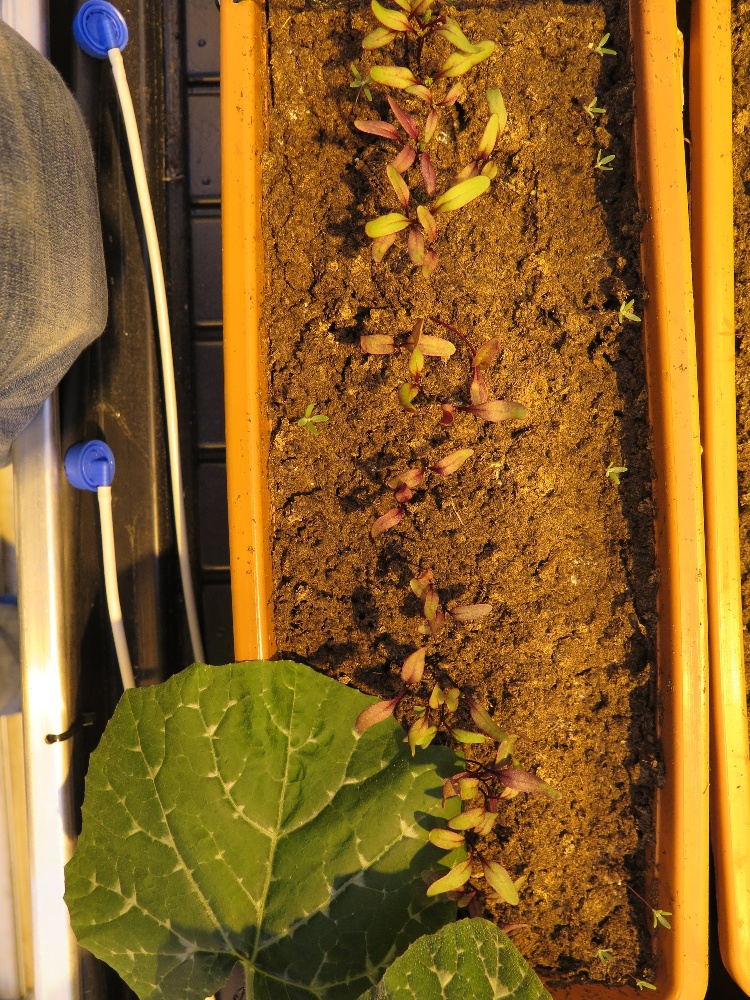crop: (344, 146, 501, 280), (420, 789, 542, 916), (365, 647, 492, 768), (335, 89, 470, 201), (389, 341, 537, 442), (434, 697, 561, 811), (354, 28, 498, 113), (365, 437, 479, 525), (349, 1, 511, 54), (446, 78, 517, 189), (394, 563, 487, 641), (356, 301, 456, 372)
weed: (284, 396, 332, 453), (579, 23, 620, 68), (587, 142, 629, 185), (635, 901, 680, 937), (629, 968, 672, 1000), (603, 289, 644, 322), (596, 458, 629, 489), (580, 89, 610, 122), (591, 939, 622, 961)
